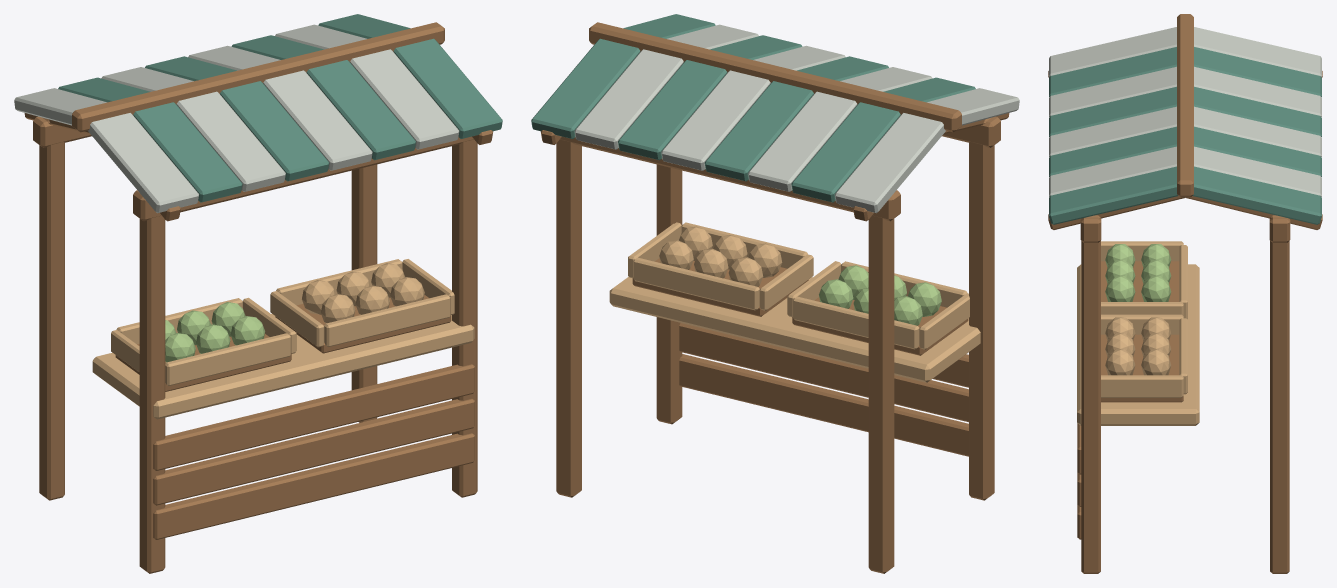
3 views of the same model, side by side, from view 1: azimuth 30°, elevation 25°; view 2: azimuth 150°, elevation 25°; view 3: azimuth 270°, elevation 25° (orthographic). The views are drawn at different scales.
Parts seen in each view (by area): view 1: village-market-stall-01; view 2: village-market-stall-01; view 3: village-market-stall-01.
Part boxes in pixels (x1,y1,x2,y2): village-market-stall-01: (14,14,502,573); village-market-stall-01: (531,14,1019,573); village-market-stall-01: (1048,14,1322,573).
Size of the model in its own units: 2.12 by 2.35 by 1.45.
